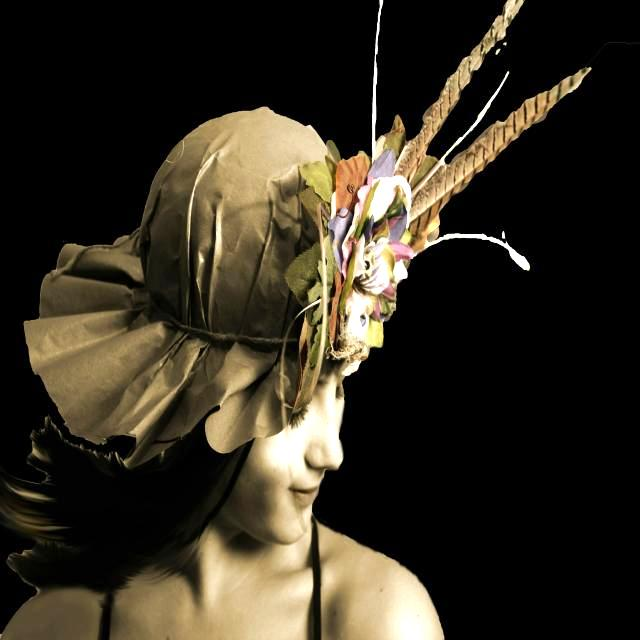no_hard_hat: (25, 0, 593, 466)
person: (0, 108, 443, 640)
